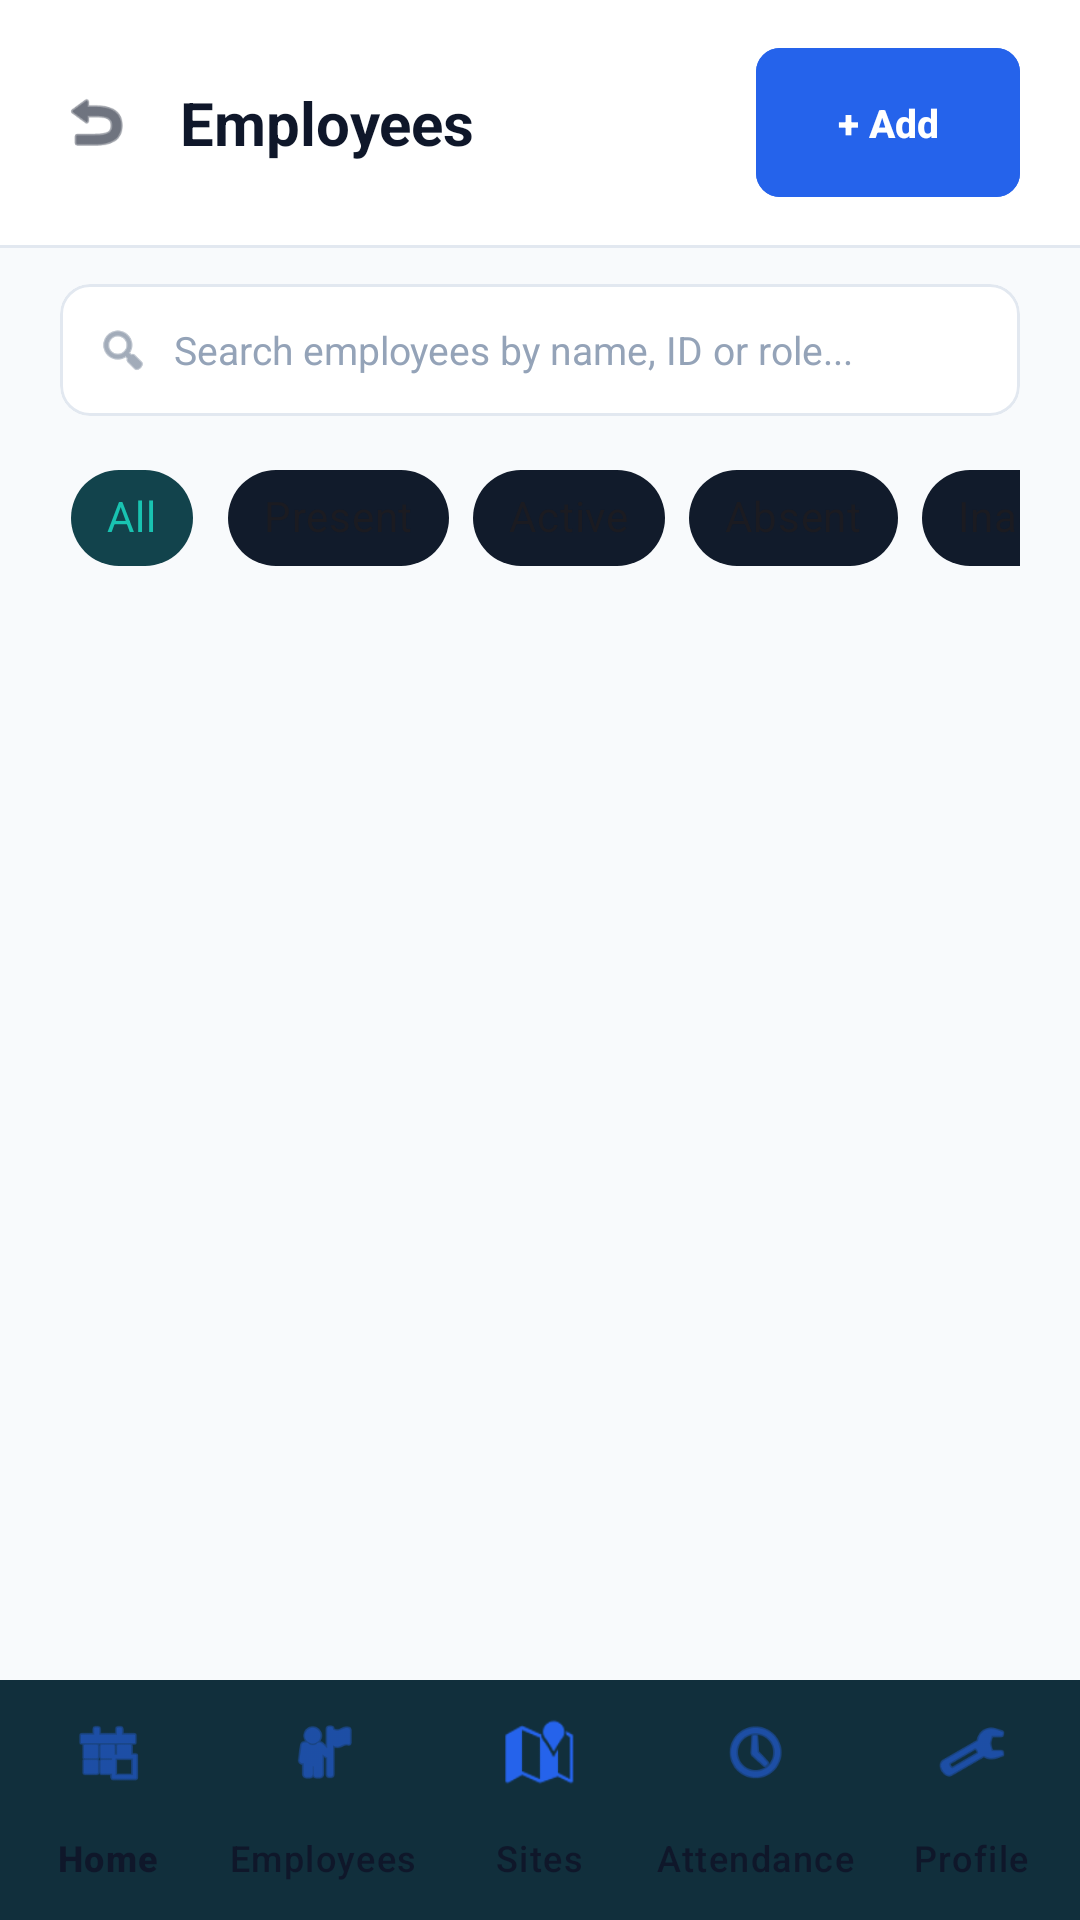

Locate icon controls on the screen. Image size 1080w x 1920h, boxes as (x1, y1, x2, y2).
revert: (71, 99, 123, 146)
